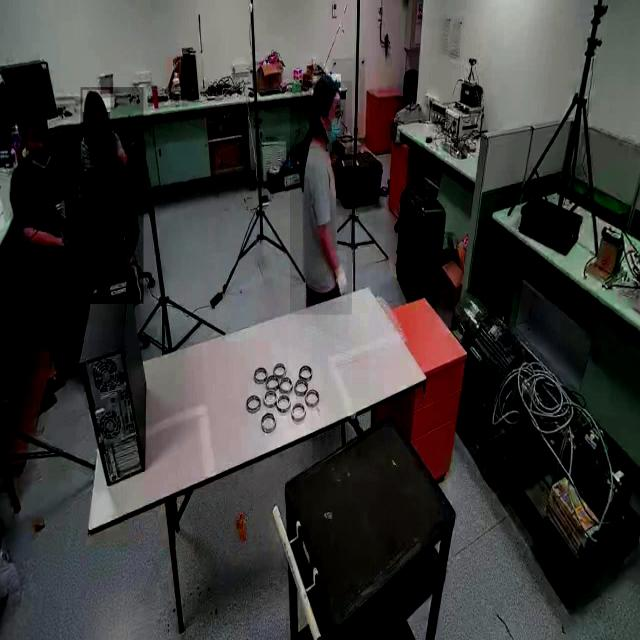face_mask: (324, 100, 346, 142), (90, 112, 110, 142)
face_nomask: (26, 128, 52, 167)
hand_glove: (330, 251, 346, 302)
hand_noglove: (126, 134, 138, 166)
head_nohelmet: (14, 92, 49, 126), (311, 74, 341, 100), (82, 90, 110, 113)
person: (9, 104, 79, 335), (290, 81, 352, 315), (80, 87, 144, 305)
